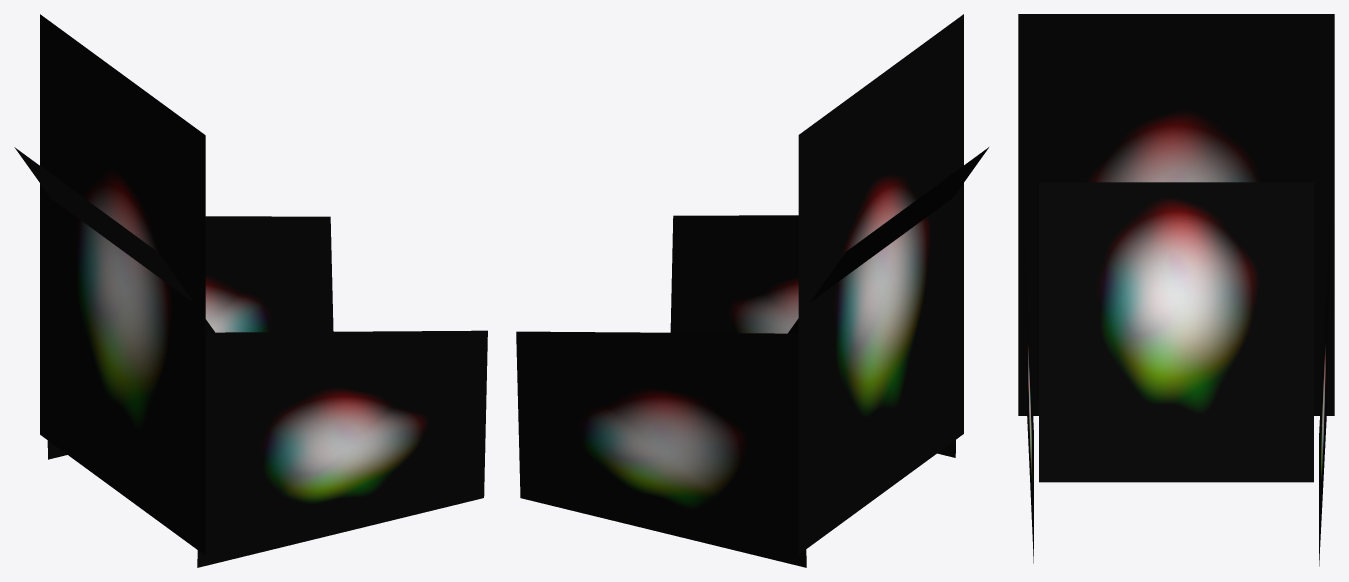
File: PerfectFormCrown.glb
The picture shows the model from 3 angles, left to right: view 1: azimuth 30°, elevation 25°; view 2: azimuth 150°, elevation 25°; view 3: azimuth 270°, elevation 25°; orthographic projection. The views are drawn at different scales.
Visible parts, largest first — view 1: PerfectFormCrown.001; view 2: PerfectFormCrown.001; view 3: PerfectFormCrown.001.
Boxes of the visible parts, x1,y1,x2,y2 form: PerfectFormCrown.001: (14,14,487,567); PerfectFormCrown.001: (516,14,988,567); PerfectFormCrown.001: (1018,14,1334,566).
Bounding box in the file's own units: 226 × 293 × 200.
1 material, 1 textured.
